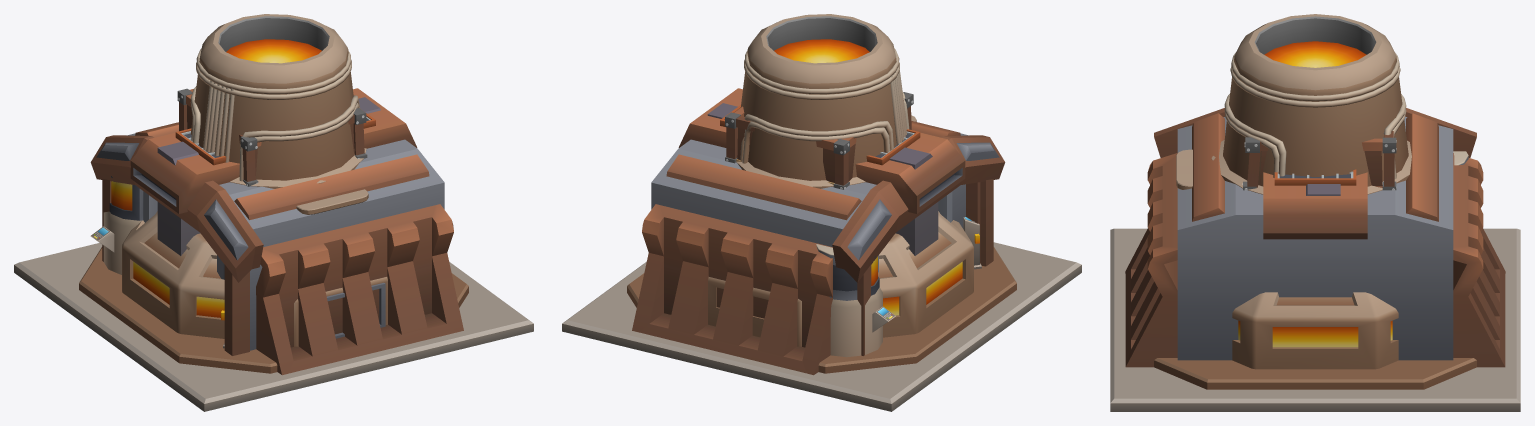
The model's file is Assets 4.fbx.
3 renders of one model, left to right at view 1: azimuth 30°, elevation 25°; view 2: azimuth 150°, elevation 25°; view 3: azimuth 270°, elevation 25°, orthographic. The views are drawn at different scales.
Visible parts, largest first — view 1: Furnace, Base1, Center_Wall, Watch_Tower; view 2: Furnace, Base1, Watch_Tower, Center_Wall; view 3: Base1, Furnace, Watch_Tower, Center_Wall.
Part boxes in pixels (x1,y1,x2,y2): Furnace: (14, 14, 533, 411); Base1: (90, 88, 463, 375); Center_Wall: (157, 97, 380, 255); Watch_Tower: (177, 88, 367, 186); Furnace: (562, 14, 1081, 411); Base1: (632, 88, 1005, 375); Watch_Tower: (725, 92, 913, 189); Center_Wall: (707, 103, 938, 255); Base1: (1125, 108, 1505, 367); Furnace: (1110, 14, 1520, 411); Watch_Tower: (1242, 131, 1396, 190); Center_Wall: (1306, 184, 1340, 195).
Bounding box in the file's own units: 0.0818 × 0.0622 × 0.0818.
Materials: 2 (2 with a texture image).
